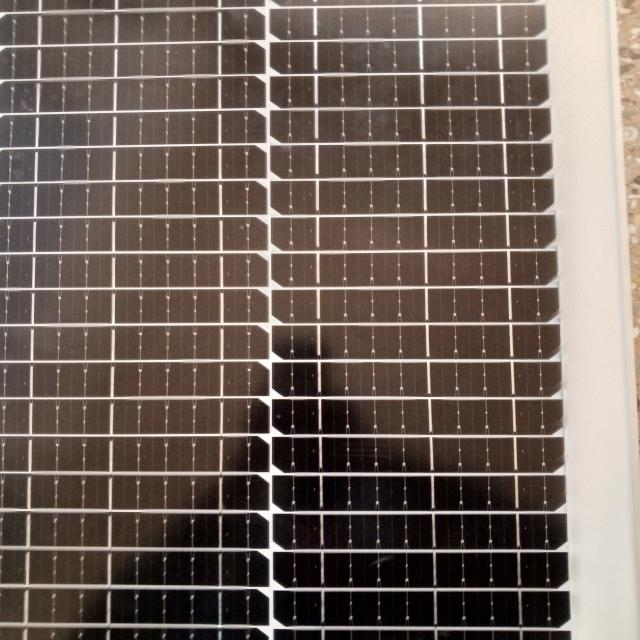Clean: (15, 5, 615, 640)
